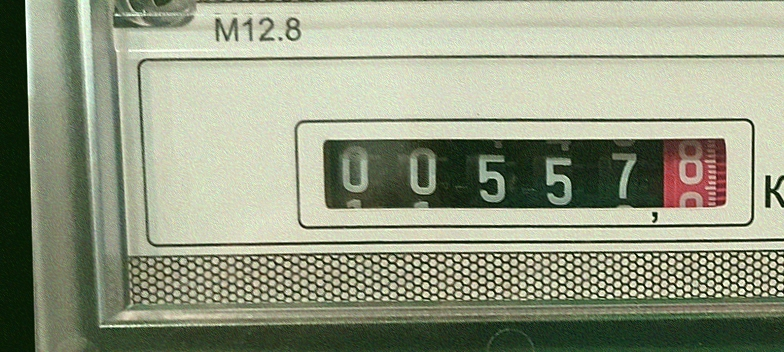0: (333, 141, 369, 198), (401, 145, 436, 198)
5: (536, 150, 575, 210), (470, 150, 506, 207)
7: (602, 148, 636, 204)
8: (673, 139, 702, 189)
screen: (286, 100, 758, 245)
